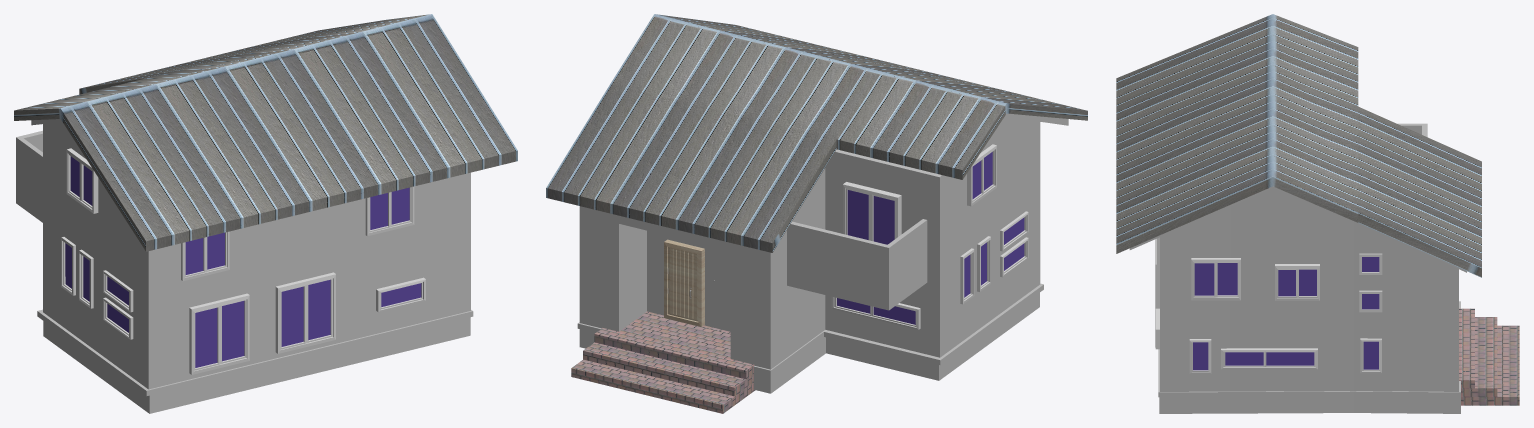
File: house010_middle.fbx
The picture shows the model from 3 angles, left to right: view 1: azimuth 30°, elevation 25°; view 2: azimuth 150°, elevation 25°; view 3: azimuth 270°, elevation 25°; orthographic projection. The views are drawn at different scales.
Parts seen in each view (by area): view 1: polySurface14; view 2: polySurface14; view 3: polySurface14.
Part boxes in pixels (x1=…): polySurface14: x1=14, y1=14, x2=517, y2=413; polySurface14: x1=546, y1=14, x2=1087, y2=413; polySurface14: x1=1116, y1=14, x2=1519, y2=413.
Size of the model in its own units: 13.29 by 9.31 by 13.63.
